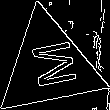M_W: (21, 39, 77, 93)
